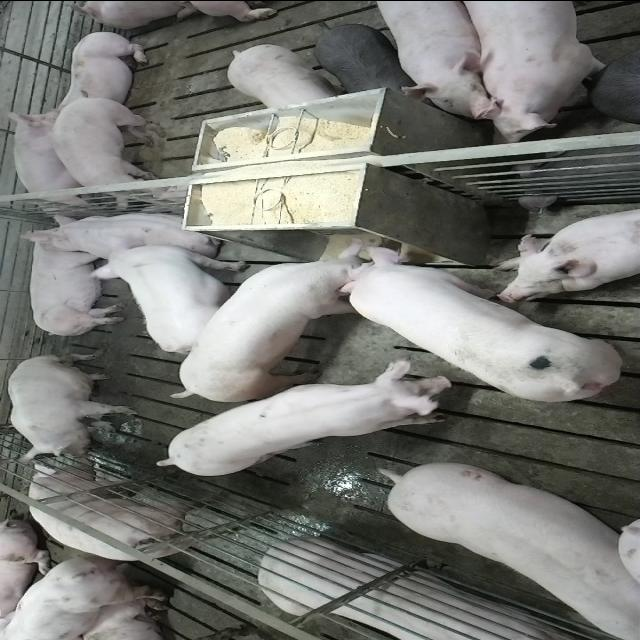Feeding: (334, 240, 624, 405), (166, 240, 382, 408)
Lateral_lying: (18, 222, 130, 338)
Sitting: (5, 353, 138, 462)
Standing: (376, 456, 636, 635), (156, 362, 462, 480), (447, 1, 616, 140), (27, 456, 230, 560), (89, 242, 248, 354), (366, 2, 504, 118), (0, 557, 170, 640), (54, 92, 174, 206), (313, 22, 423, 94), (227, 42, 343, 110), (591, 36, 640, 121)
Sternal_lying: (259, 540, 600, 640), (492, 203, 640, 296), (37, 206, 230, 258), (46, 29, 154, 115)
